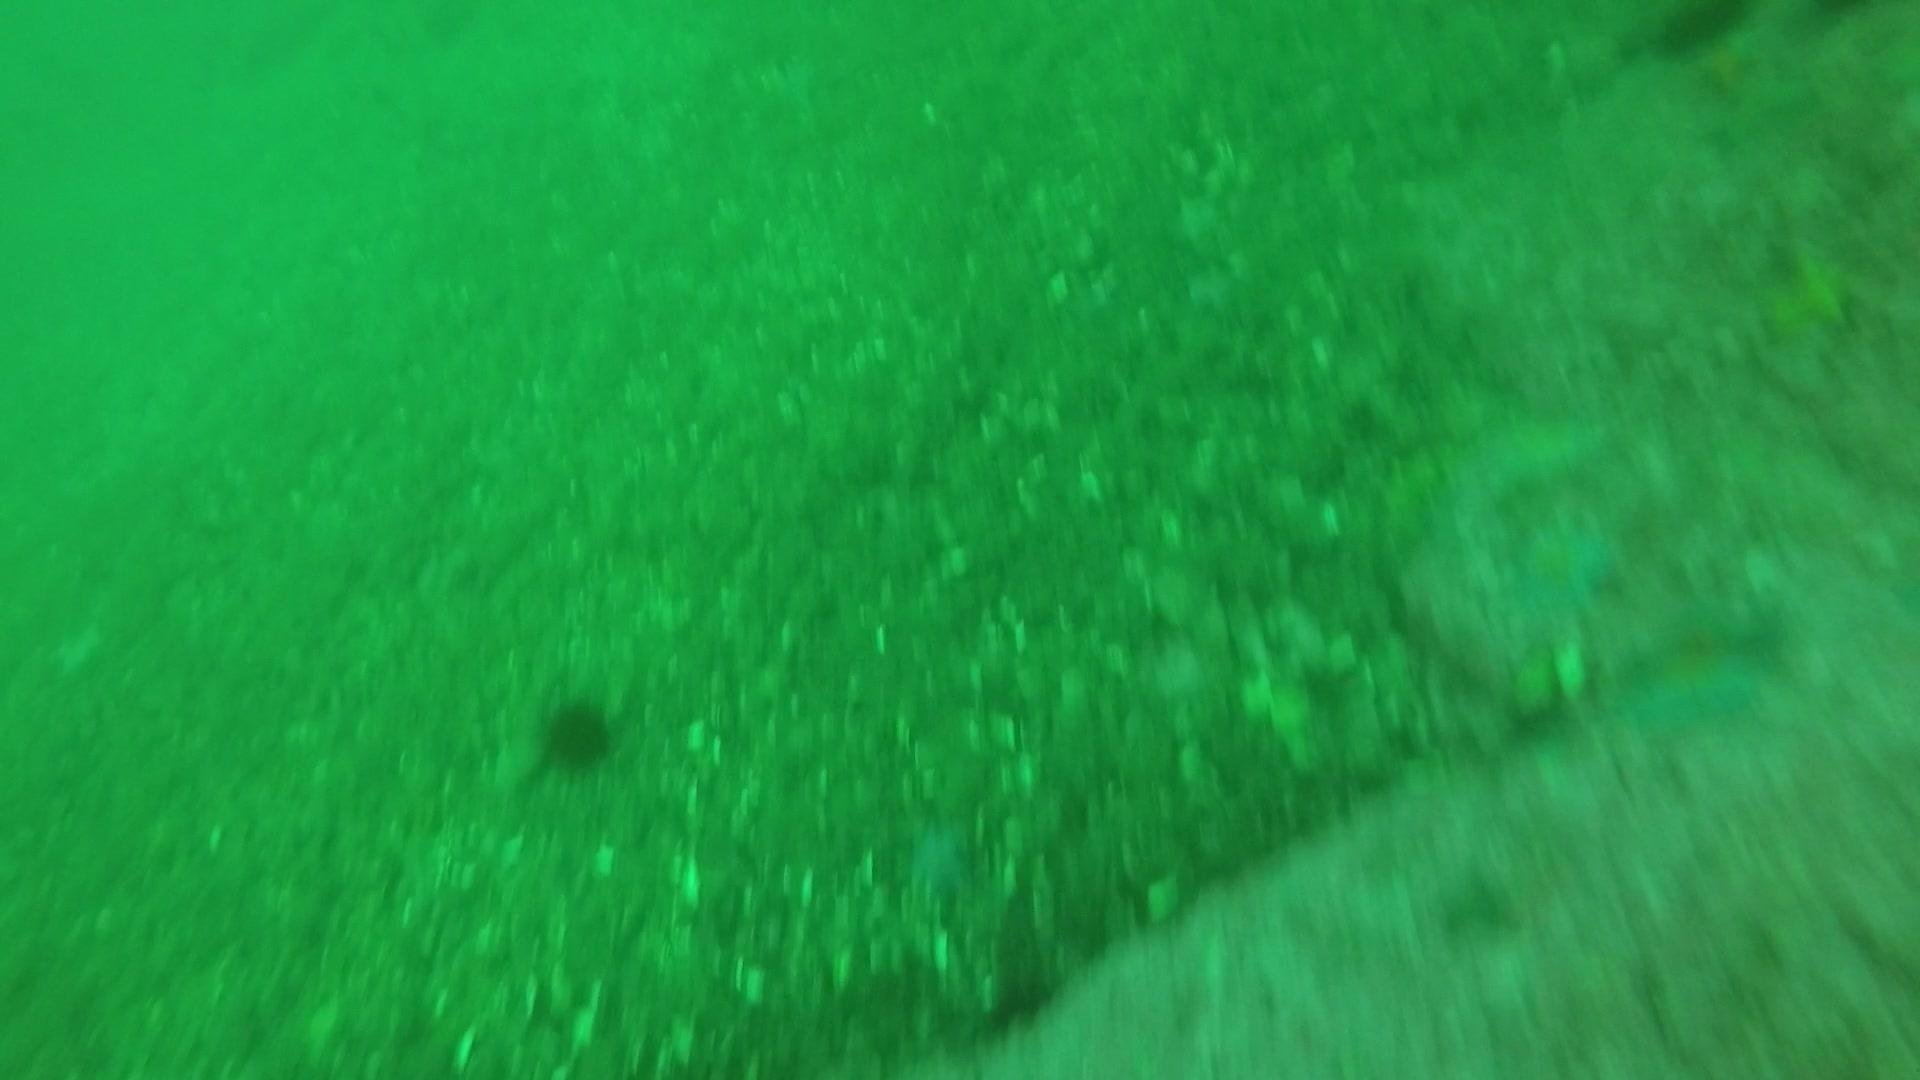echinus: (531, 690, 624, 779), (1643, 1, 1756, 63)
starfish: (1604, 574, 1787, 749), (1491, 502, 1629, 634), (1746, 233, 1865, 359)
